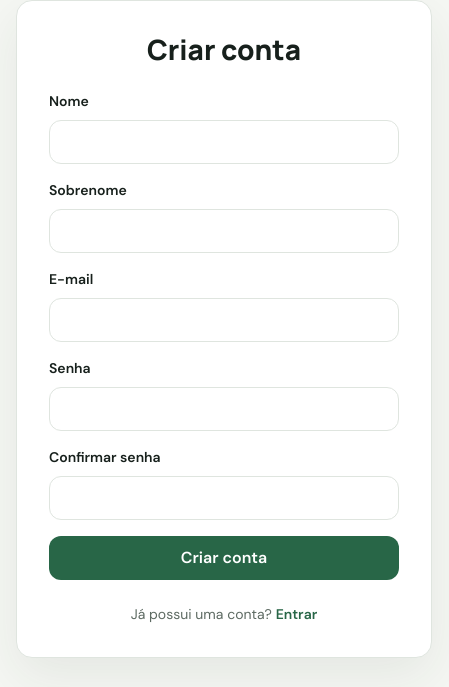
Test: RegisterPage — envio › exibe feedback de loading e desabilita o botão durante o envio
This screenshot has width=449, height=687.
Type "John" into the field labelled "Nome" at (224, 142), box [49,120,399,164]
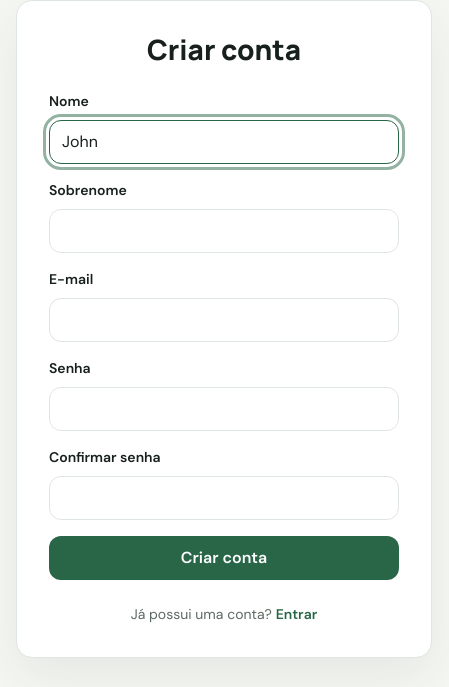
Type "Doe" into the field labelled "Sobrenome" at (224, 231), box [49,209,399,253]
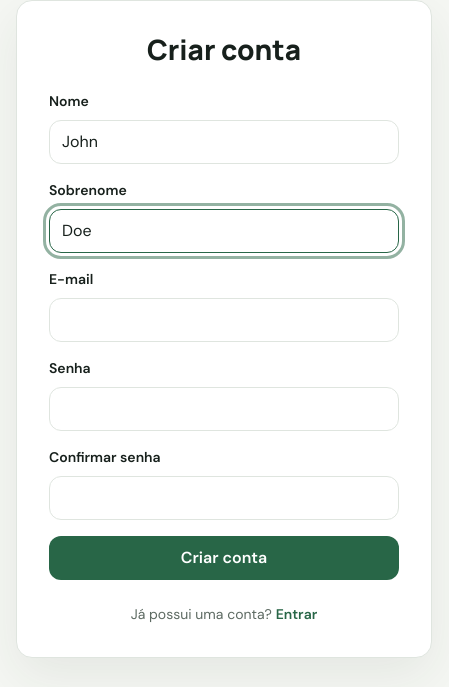
Type "john@example.com" into the field labelled "E-mail" at (224, 320), box [49,298,399,342]
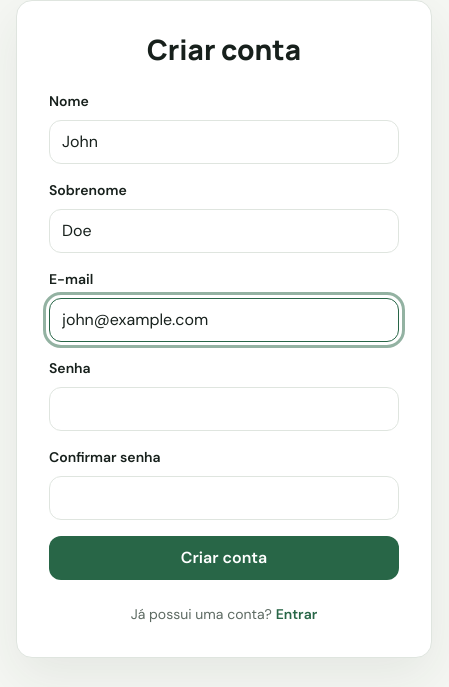
Type "12345678" into the password field labelled "Senha" at (224, 409), box [49,387,399,431]
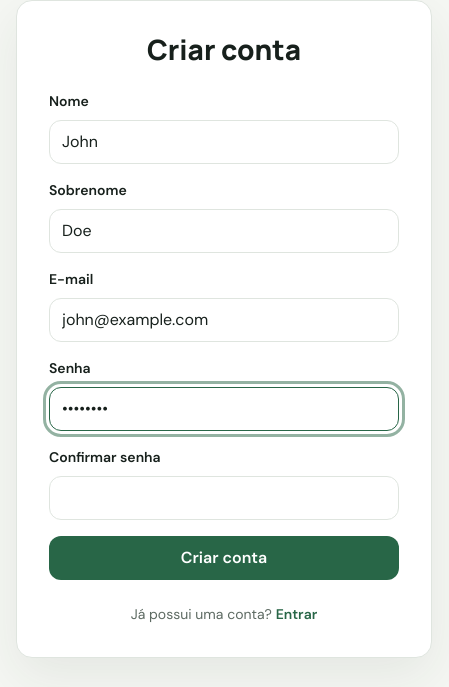
Type "12345678" into the password field labelled "Confirmar senha" at (224, 498), box [49,476,399,520]
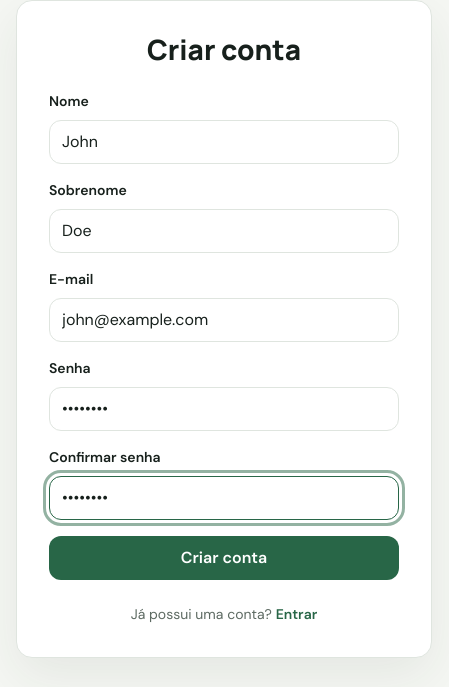
Click the button "Criar conta" at (224, 558), box [49,536,399,580]
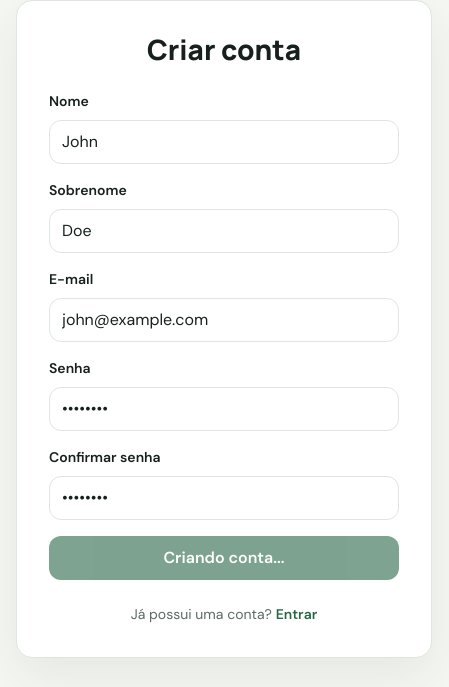
Expected: the button "Criando conta..." is disabled, [49,536,399,580]
